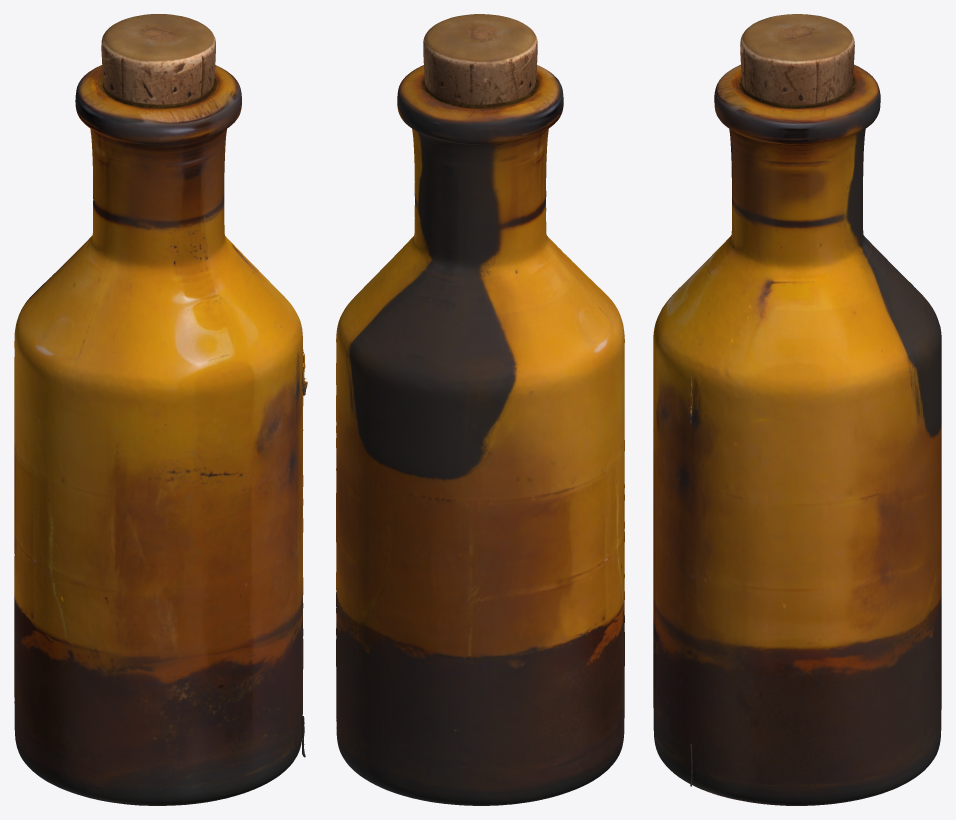
Rendered from small_brown_glass_med_1110040626_texture.fbx.
3 views of the same model, side by side, from view 1: azimuth 30°, elevation 25°; view 2: azimuth 150°, elevation 25°; view 3: azimuth 270°, elevation 25° (orthographic).
Visible parts, largest first — view 1: input; view 2: input; view 3: input.
Boxes of the visible parts, box(x1,y1,x2,y2) form: input: box(14, 14, 307, 805); input: box(336, 14, 624, 805); input: box(653, 14, 941, 805).
Bounding box in the file's own units: 69.52 × 190 × 69.49.
Materials: 1 (1 with a texture image).
